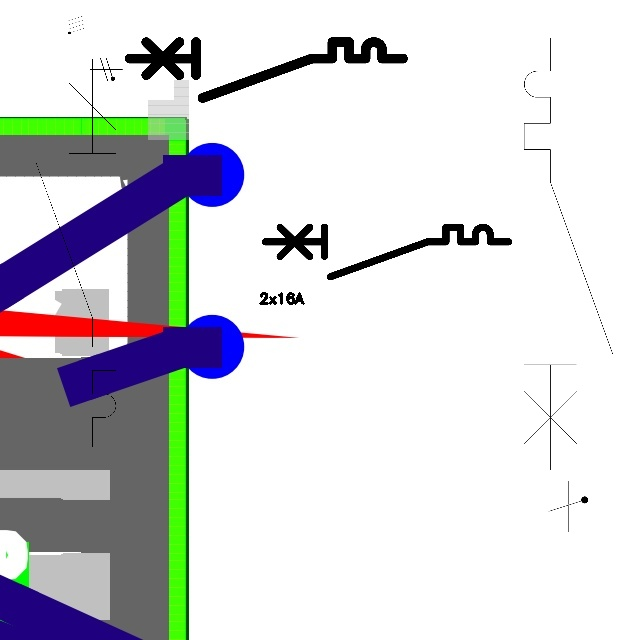interruptor_termomagnetico: (513, 27, 624, 481), (26, 49, 126, 457), (122, 35, 410, 105), (259, 221, 515, 283)
